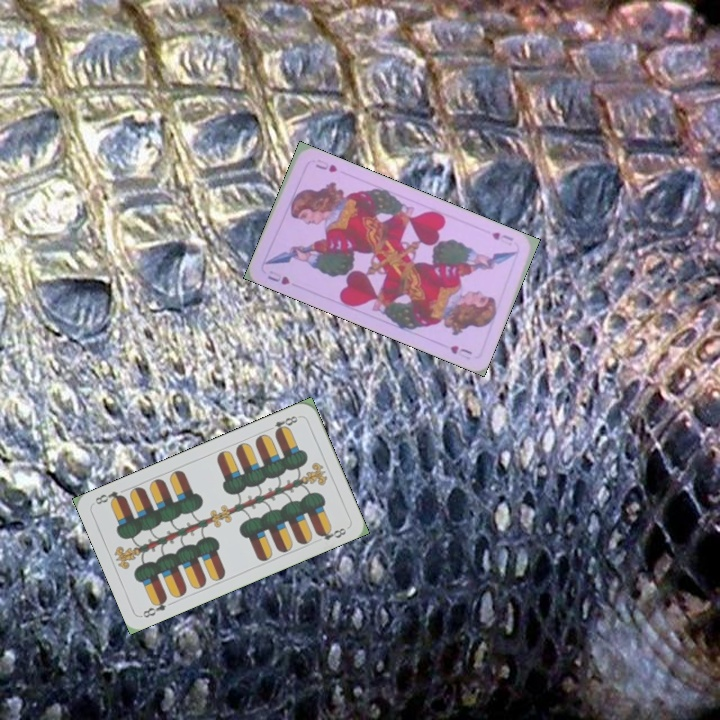E8: (264, 412, 303, 437), (139, 593, 170, 620)
HU: (263, 266, 292, 287), (488, 228, 516, 248)
